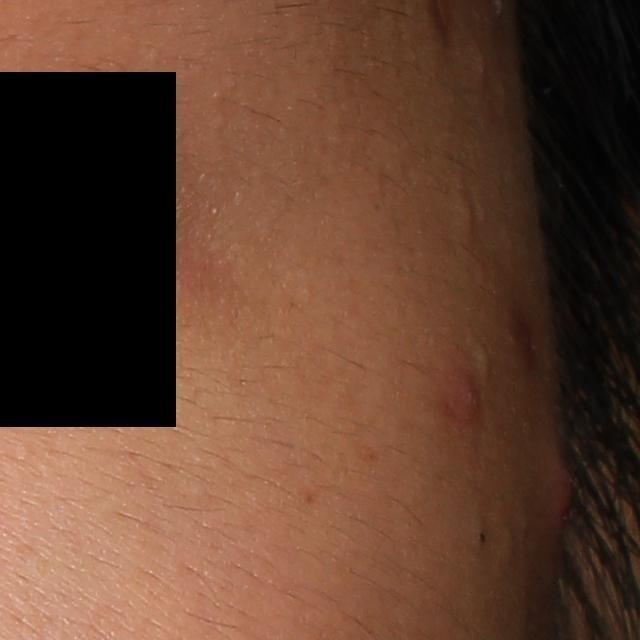papule: (543, 445, 577, 528), (453, 369, 481, 422)
